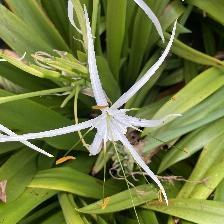spider lily: (67, 81, 155, 175)
